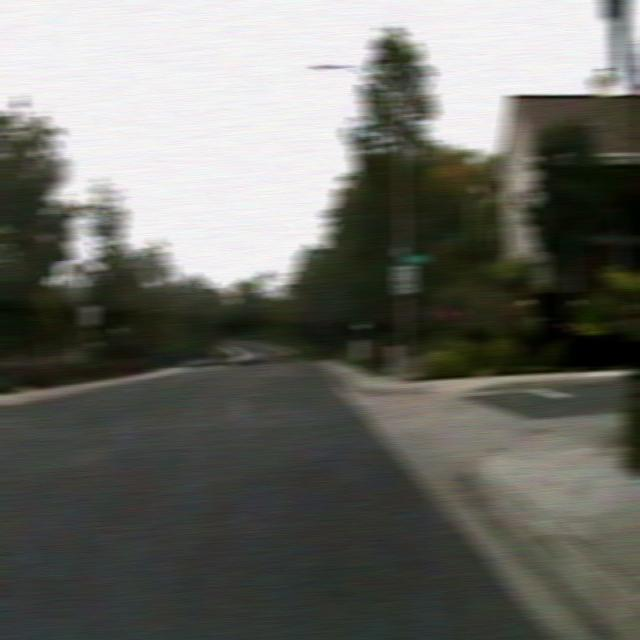speedLimit25: (392, 262, 416, 294)
